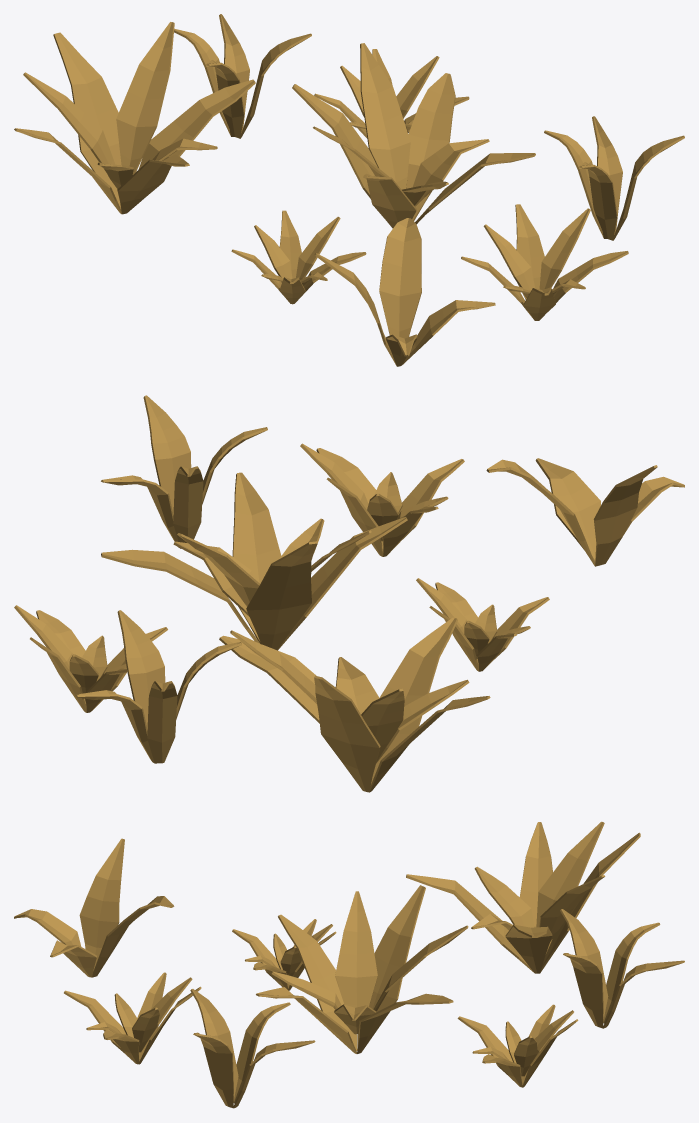
File: 3DObj_GrassGroup_Yellow.fbx
3 views of the same model, one above another, from view 1: azimuth 30°, elevation 25°; view 2: azimuth 150°, elevation 25°; view 3: azimuth 270°, elevation 25° (orthographic). The views are drawn at different scales.
Visible parts, largest first — view 1: 3DObj_GrassGroup_Yellow; view 2: 3DObj_GrassGroup_Yellow; view 3: 3DObj_GrassGroup_Yellow.
Boxes of the visible parts, bbox=[...] form: 3DObj_GrassGroup_Yellow: bbox=[14, 14, 684, 366]; 3DObj_GrassGroup_Yellow: bbox=[14, 395, 684, 792]; 3DObj_GrassGroup_Yellow: bbox=[14, 821, 684, 1108].
Bounding box in the file's own units: 136 × 39.9 × 174.
